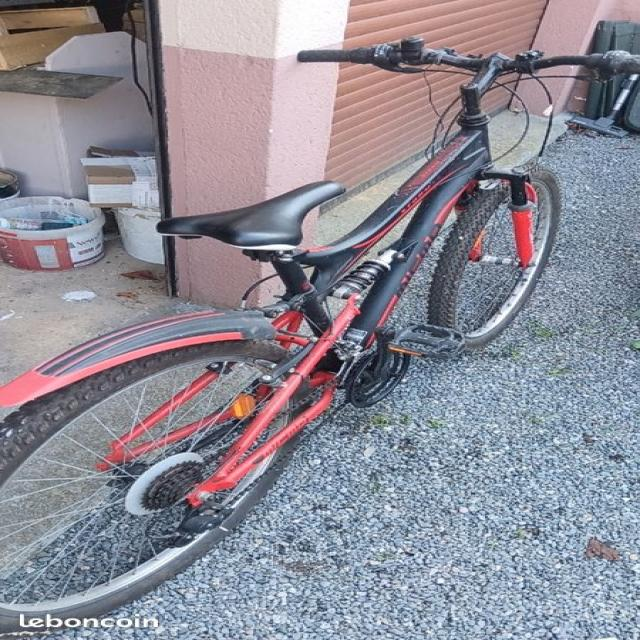Bike: (3, 35, 640, 633)
